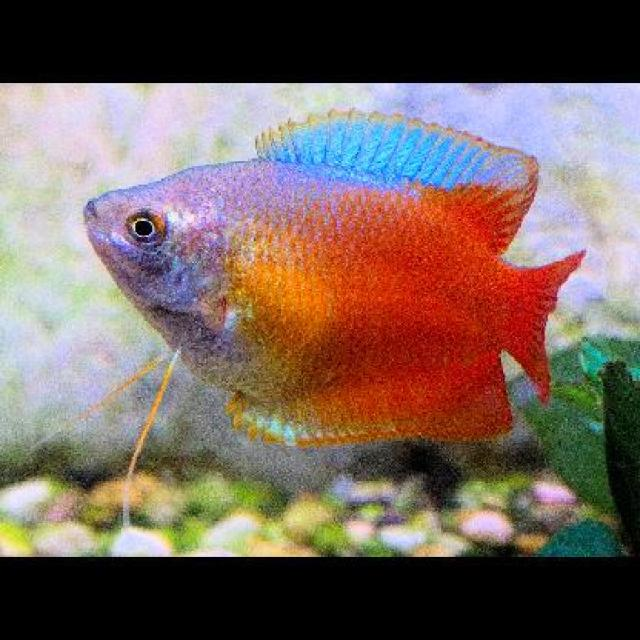Gourami: (79, 104, 567, 450)
